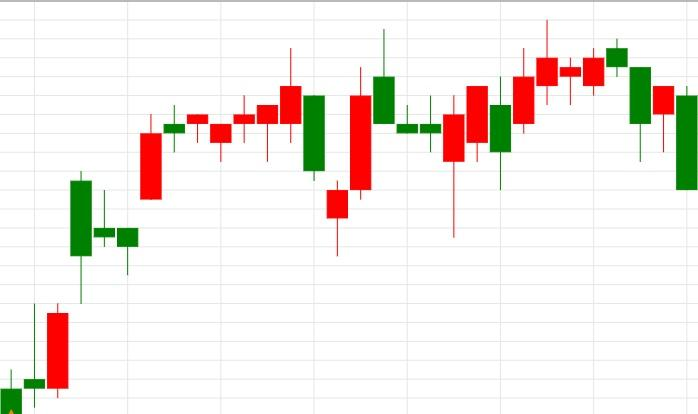bullish_engulfing_rise: (372, 29, 465, 238)
